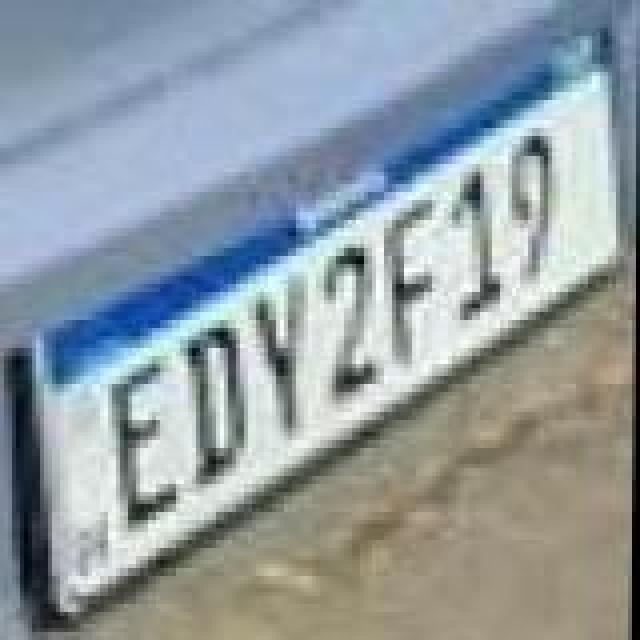1: (448, 166, 508, 322)
2: (320, 242, 384, 398)
9: (506, 132, 562, 284)
D: (182, 328, 258, 488)
E: (100, 358, 184, 530)
F: (378, 192, 446, 368)
Y: (252, 278, 316, 442)
